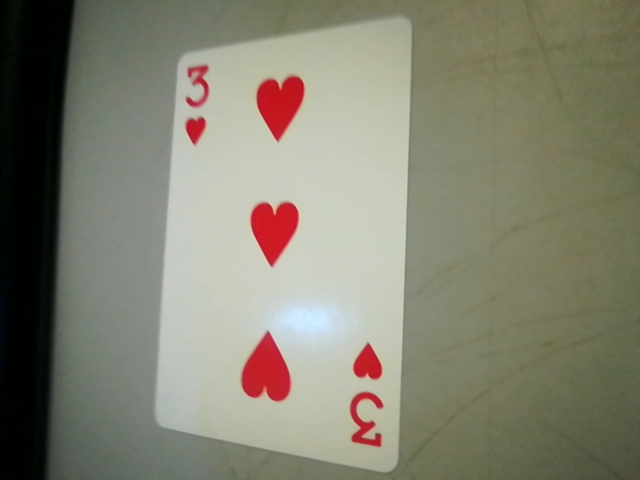hx 3: (340, 336, 396, 461)
